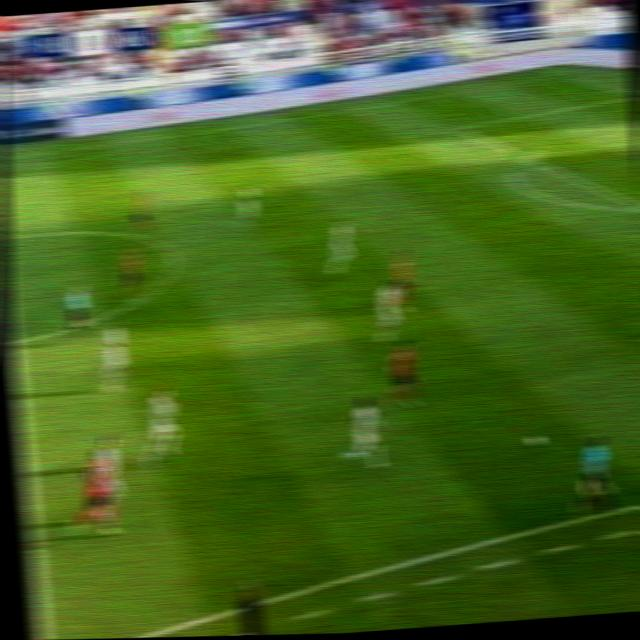bigarea_top_inner: (444, 116, 471, 138)
bigarea_top_outter: (621, 84, 637, 105)
bottom_arc_area_intersection: (630, 197, 640, 219)
corner: (543, 66, 572, 83)
halfcircle_bottom: (7, 322, 28, 359)
halfcircle_top: (4, 224, 13, 248)
top_arc_area_intersection: (510, 144, 543, 174)
